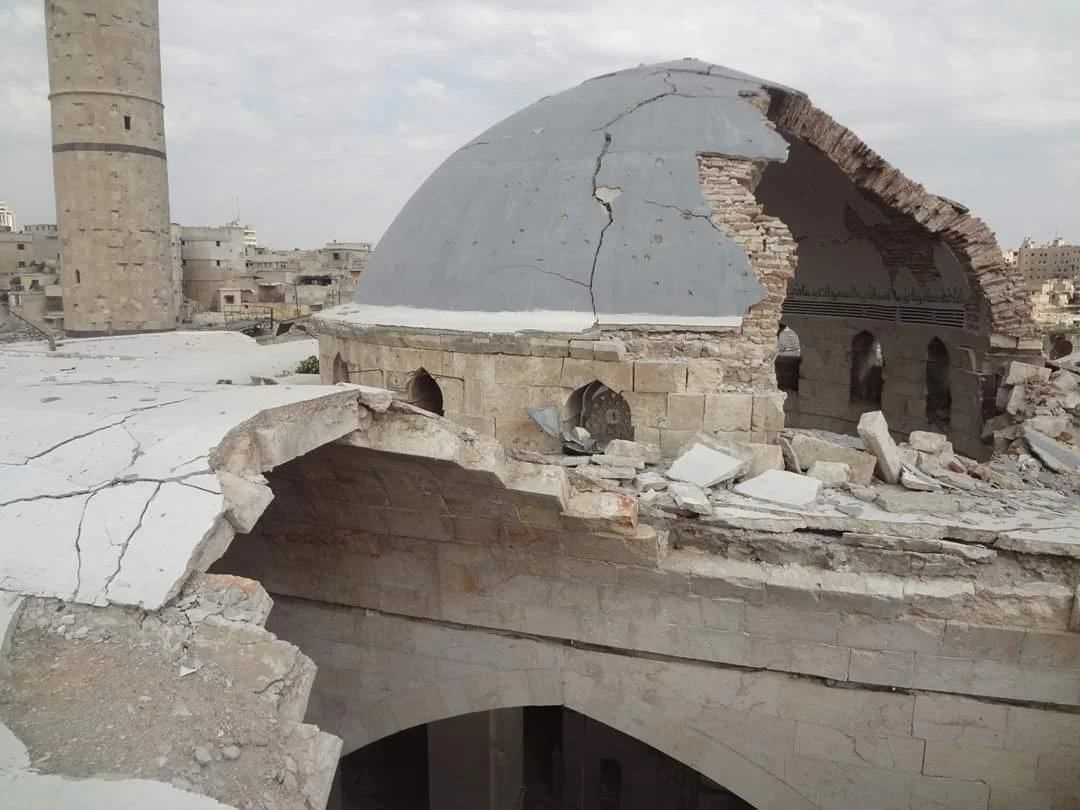crack: (585, 131, 625, 318), (644, 53, 717, 112), (98, 466, 194, 507), (27, 425, 135, 451), (13, 485, 72, 514)
